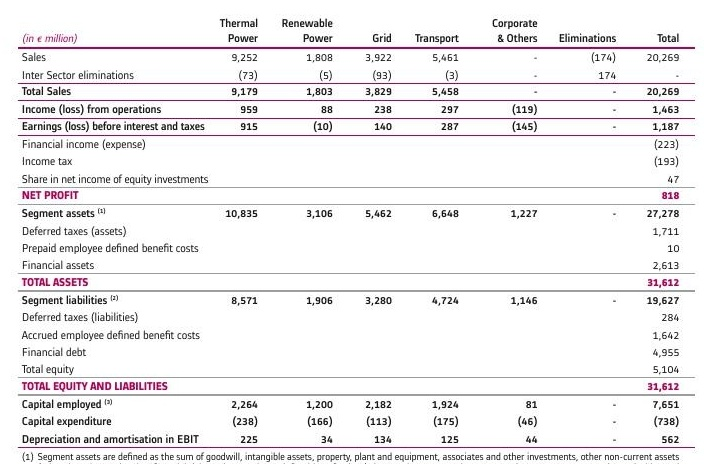table: (0, 0, 704, 464)
